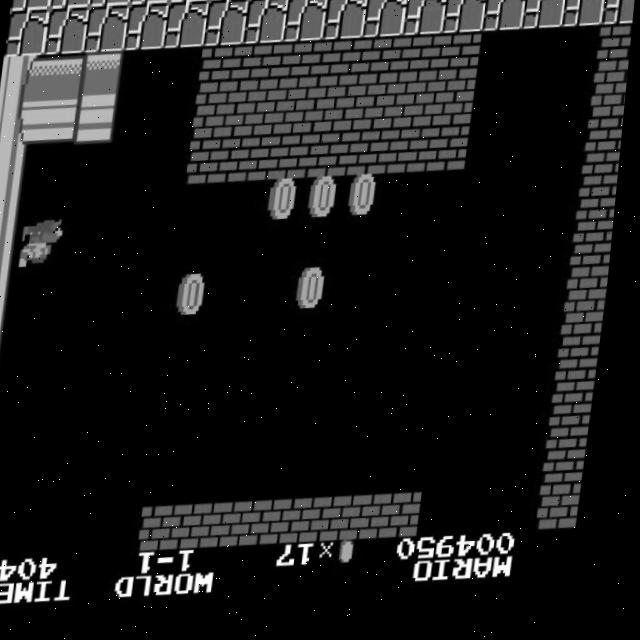1- brick_block: (432, 84, 479, 134), (437, 39, 484, 89), (307, 499, 354, 549), (267, 501, 314, 551), (227, 502, 274, 552), (187, 504, 234, 554), (233, 91, 280, 141), (147, 505, 194, 555), (193, 93, 240, 143), (198, 47, 245, 97), (387, 132, 434, 181), (347, 134, 394, 183), (228, 138, 275, 187), (188, 139, 235, 188), (387, 496, 433, 546), (347, 498, 393, 548), (393, 86, 439, 136), (398, 40, 444, 90), (353, 87, 399, 137), (358, 41, 404, 91), (313, 89, 359, 139), (318, 43, 364, 93), (273, 90, 319, 140), (278, 44, 324, 94), (238, 46, 284, 96), (427, 131, 473, 180), (308, 135, 354, 184), (268, 137, 314, 186), (547, 492, 592, 542), (562, 354, 607, 404), (567, 308, 612, 358), (552, 447, 597, 496), (572, 263, 617, 312), (557, 401, 602, 449), (577, 217, 620, 267), (582, 171, 624, 221), (587, 126, 627, 175), (592, 80, 631, 129), (597, 34, 634, 84)
11- little_mario: (23, 219, 71, 271)
14- pipe: (38, 53, 85, 103), (34, 98, 80, 148), (0, 55, 46, 105), (0, 101, 41, 150), (0, 147, 36, 196), (0, 192, 31, 242), (0, 238, 26, 288), (0, 284, 20, 333), (0, 329, 15, 379), (0, 375, 10, 425), (0, 421, 5, 470), (0, 467, 0, 516)
15- pipe_head: (73, 97, 120, 147), (78, 51, 125, 101)
17- undestructible_block: (203, 1, 250, 51), (163, 3, 210, 53), (123, 4, 170, 54), (83, 5, 130, 55), (43, 7, 90, 57), (4, 8, 51, 58), (243, 0, 289, 50), (283, 0, 329, 48), (323, 0, 369, 47), (363, 0, 409, 46), (403, 0, 449, 44), (442, 0, 489, 43), (482, 0, 529, 41), (522, 0, 569, 40), (562, 0, 609, 38), (602, 0, 637, 37), (9, 0, 52, 12), (49, 0, 92, 11), (89, 0, 132, 10), (129, 0, 172, 8), (169, 0, 212, 7), (208, 0, 252, 5), (248, 0, 292, 4), (288, 0, 332, 3), (328, 0, 372, 1), (368, 0, 411, 0)
2- coin: (342, 179, 389, 229), (292, 272, 339, 322), (302, 181, 349, 231), (262, 182, 309, 232), (173, 276, 219, 326)
